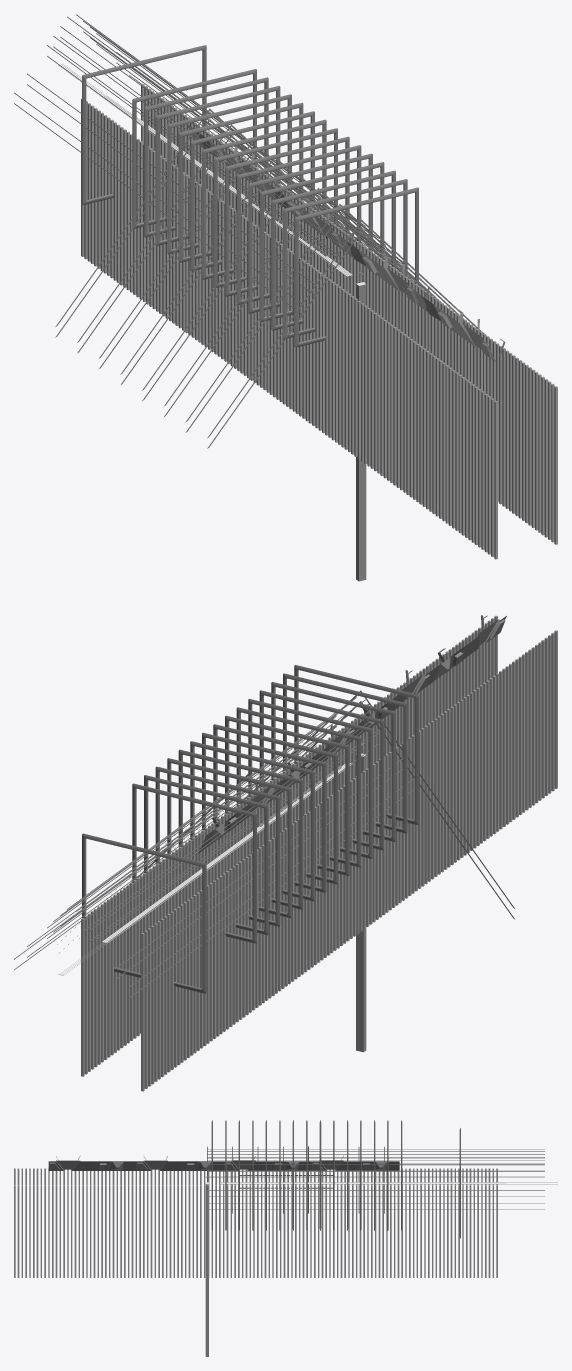
The model's file is dragons2.glb.
The picture shows the model from 3 angles, top to bottom: view 1: azimuth 30°, elevation 25°; view 2: azimuth 150°, elevation 25°; view 3: azimuth 270°, elevation 25°; orthographic projection. The views are drawn at different scales.
Parts seen in each view (by area): view 1: Spectrogram0 (×2), Spectrogram1 (×2), Ring (×16), HallConstruction, Construction, TrackMirror; view 2: Spectrogram1 (×2), Spectrogram0 (×2), Ring (×16), HallConstruction, Construction, TrackMirror; view 3: Spectrogram0 (×2), Spectrogram1 (×2), HallConstruction, TrackConstruction, Construction, TrackMirror, Ring.
Part boxes in pixels (x1,y1,x2,y2): Spectrogram0 (×2): [289, 236, 557, 559]; Spectrogram1 (×2): [81, 83, 349, 406]; Ring (×16): [82, 45, 418, 347]; HallConstruction: [14, 14, 505, 448]; Construction: [356, 284, 366, 581]; TrackMirror: [102, 95, 352, 276]; Spectrogram1 (×2): [81, 768, 349, 1091]; Spectrogram0 (×2): [289, 615, 557, 938]; Ring (×16): [82, 665, 418, 993]; HallConstruction: [14, 615, 515, 998]; Construction: [356, 755, 366, 1052]; TrackMirror: [102, 763, 352, 943]; Spectrogram0 (×2): [14, 1168, 254, 1277]; Spectrogram1 (×2): [257, 1168, 497, 1277]; HallConstruction: [48, 1146, 544, 1213]; TrackConstruction: [220, 1182, 557, 1184]; Construction: [205, 1184, 208, 1356]; TrackMirror: [220, 1182, 506, 1183]; Ring: [319, 1120, 321, 1230].
Size of the model in its own units: 124 by 143 by 322.
Materials: 13 (3 with a texture image).
